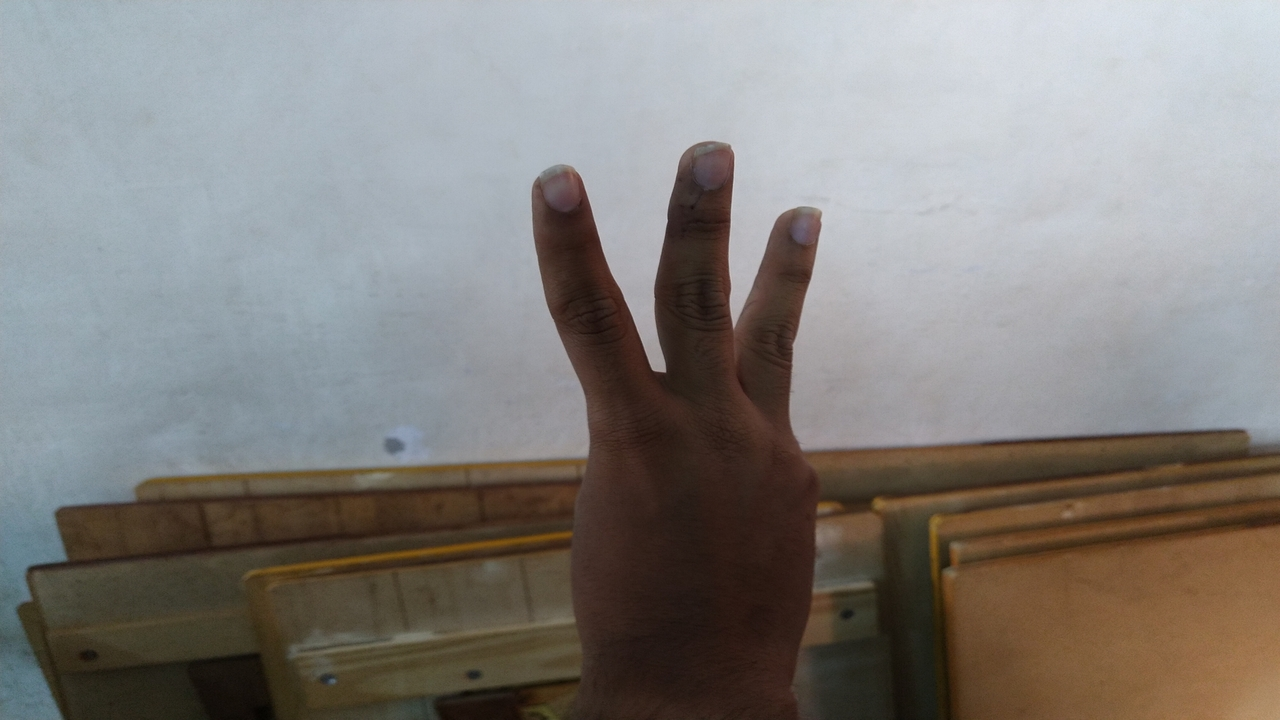fingertip: (528, 160, 594, 224), (672, 140, 738, 200), (772, 200, 832, 254)
